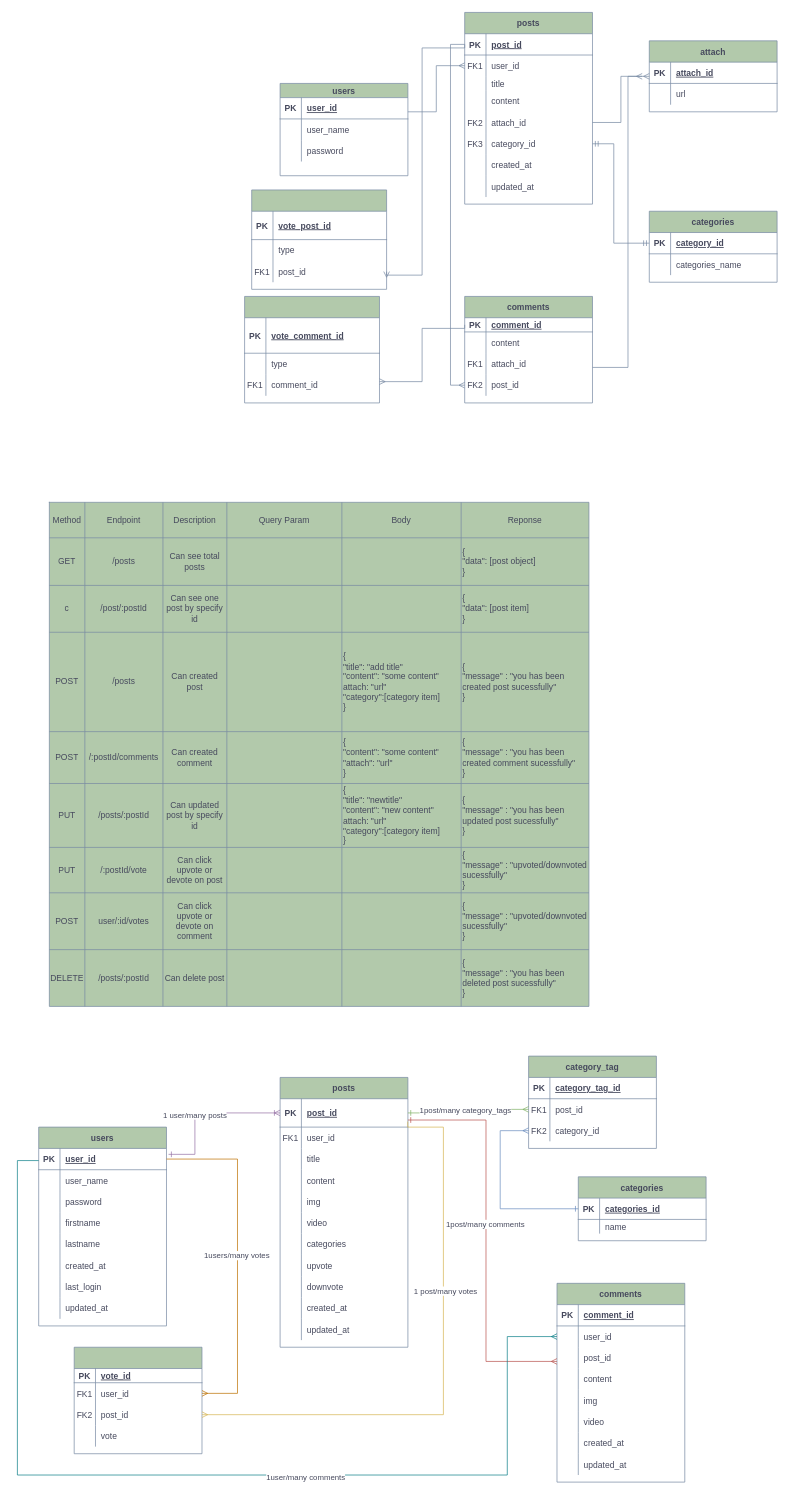
Image size: 790x1495. Some labels were removed from this diagram. Each missing label, with the box of its shape:
votes: (73, 1347, 202, 1454)
votes_comments: (244, 296, 379, 403)
votes_posts: (251, 189, 387, 289)
